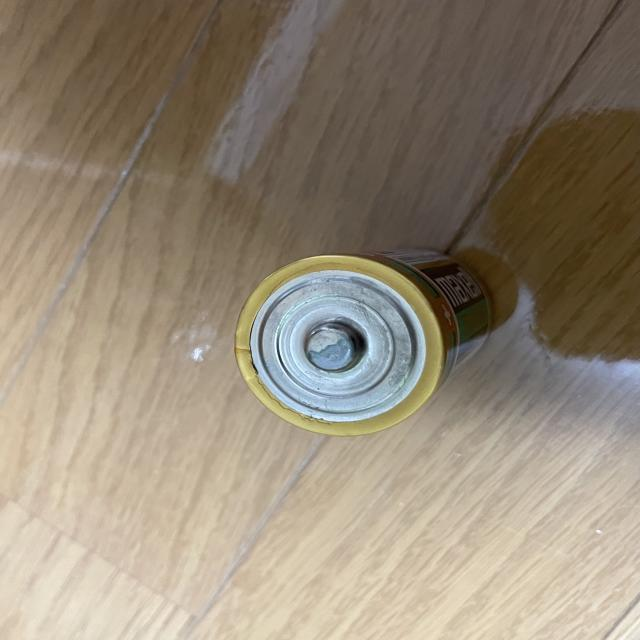hazardous waste: (218, 204, 560, 446)
